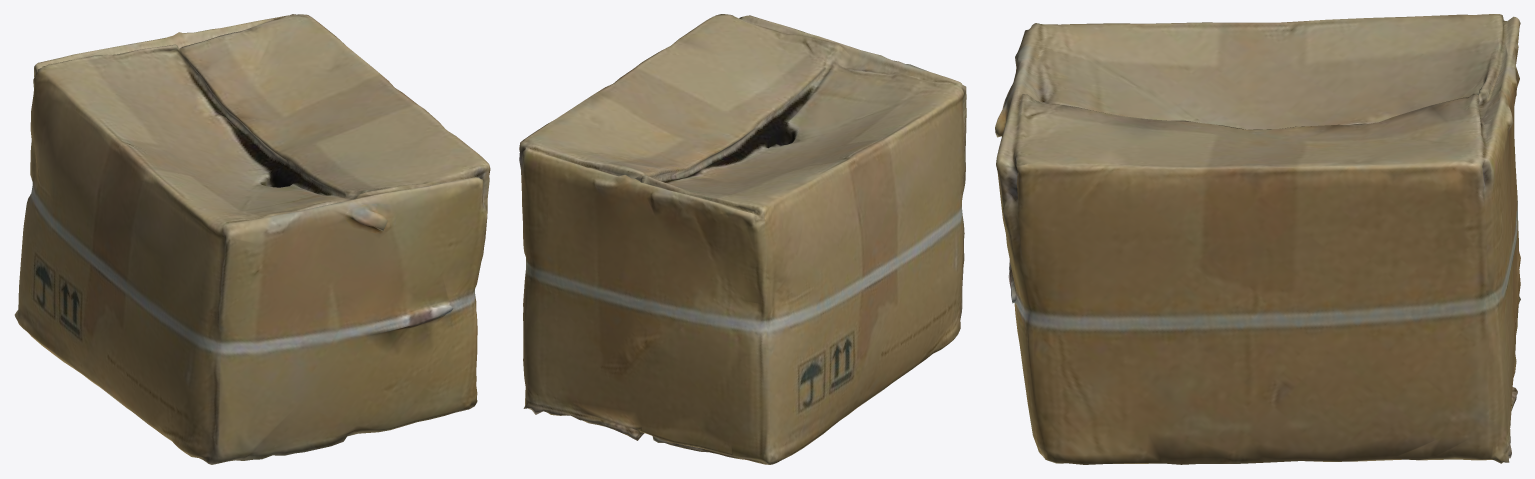
The model's file is cardboard_box_01.glb.
3 views of the same model, side by side, from view 1: azimuth 30°, elevation 25°; view 2: azimuth 150°, elevation 25°; view 3: azimuth 270°, elevation 25° (orthographic). The views are drawn at different scales.
Visible parts, largest first — view 1: cardboard_box_01; view 2: cardboard_box_01; view 3: cardboard_box_01.
Boxes of the visible parts, x1=… form: cardboard_box_01: x1=14, y1=14, x2=490, y2=464; cardboard_box_01: x1=519, y1=14, x2=966, y2=464; cardboard_box_01: x1=995, y1=14, x2=1520, y2=464.
Bounding box in the file's own units: 0.3868 × 0.3418 × 0.5159.
Materials: 1 (1 with a texture image).
